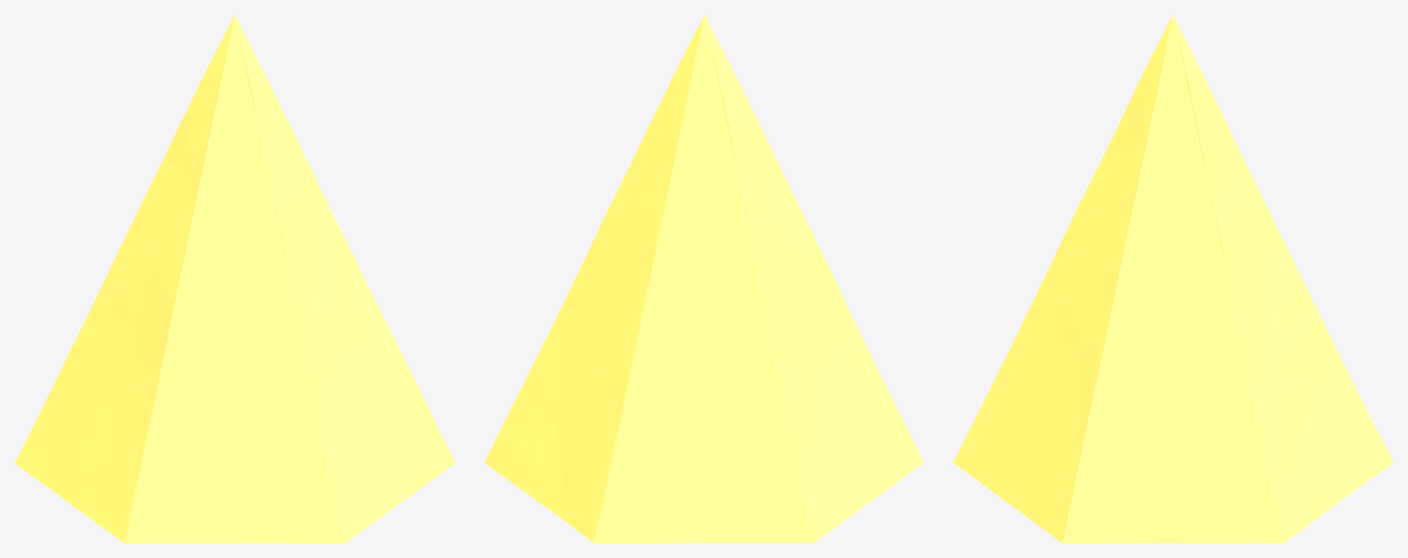
Rendered from ship.glb.
3 renders of one model, left to right at view 1: azimuth 30°, elevation 25°; view 2: azimuth 150°, elevation 25°; view 3: azimuth 270°, elevation 25°, orthographic.
Visible parts, largest first — view 1: Ship; view 2: Ship; view 3: Ship.
Part boxes in pixels (<box>): Ship: <box>14,15,455,543</box>; Ship: <box>484,14,923,543</box>; Ship: <box>953,14,1393,543</box>.
Size of the model in its own units: 1.39 by 1.8 by 1.6.
